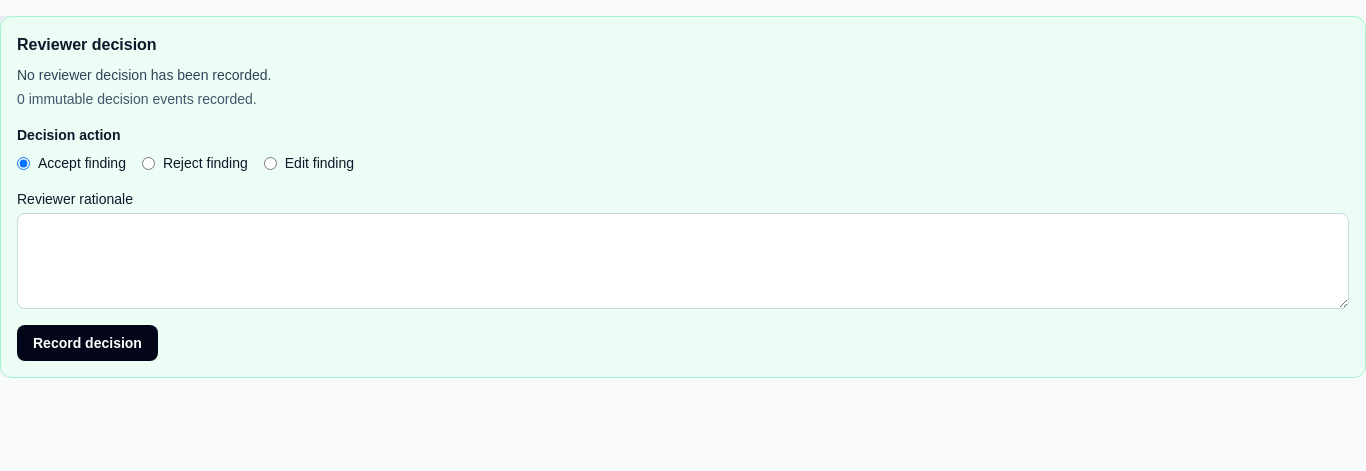
Test case: ReviewDecisions › records an accessible edited decision and announces reconstructed current state
Step 1. Click the radio button labelled "Edit finding" → x=270, y=163, box [264,156,277,170]
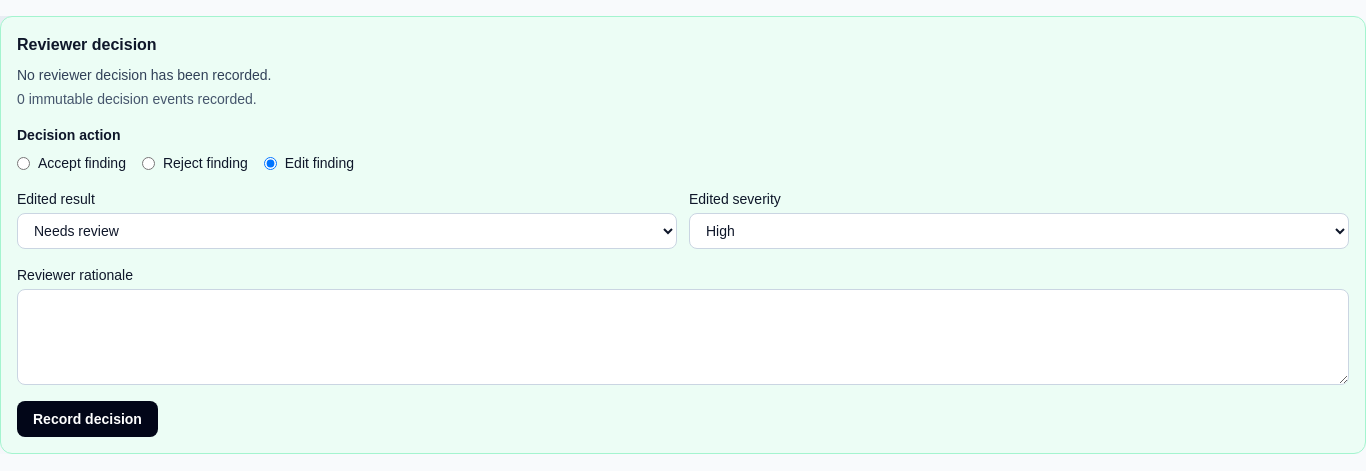
Step 2. Select "Non compliant" in the dropdown labelled "Edited result" → x=347, y=231, box [17,213,677,249]
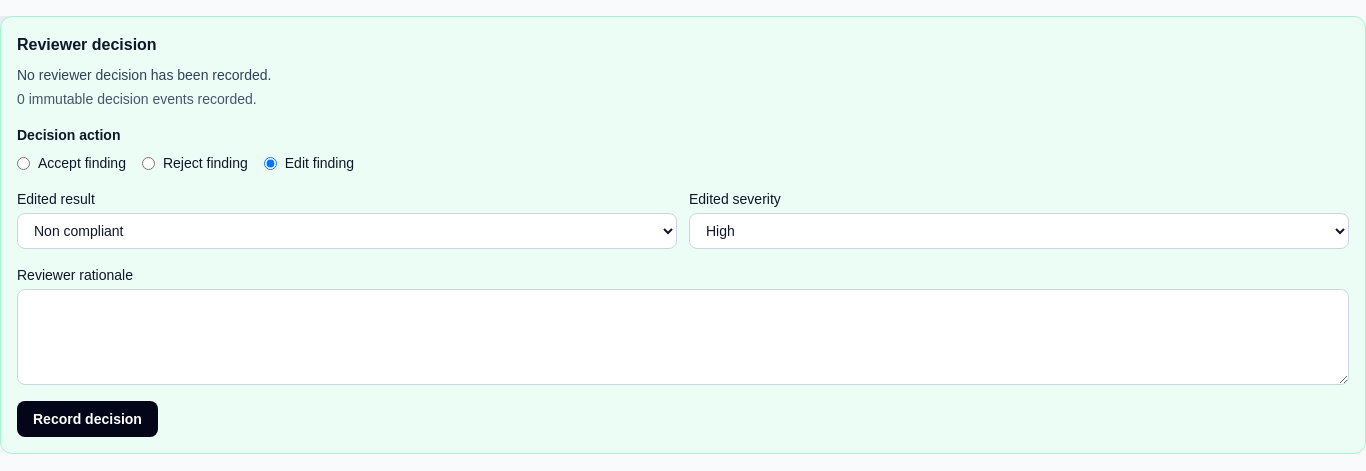
Step 3. Select "Critical" in the dropdown labelled "Edited severity" → x=1019, y=231, box [689,213,1349,249]
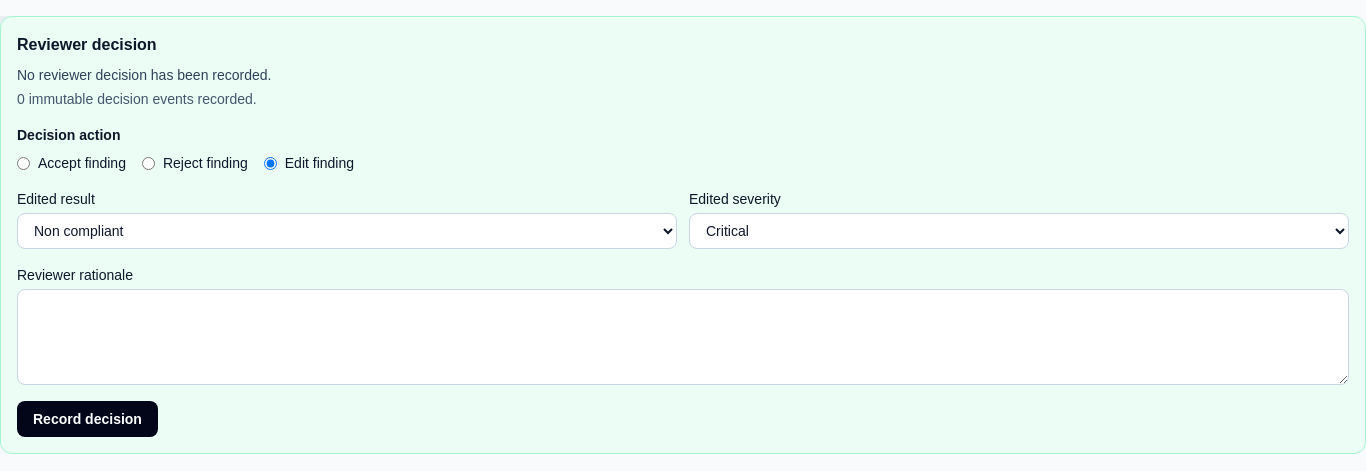
Step 4. Type "The exception requires a critical negotiated cap." into the text box labelled "Reviewer rationale" → x=683, y=337, box [17,289,1349,385]
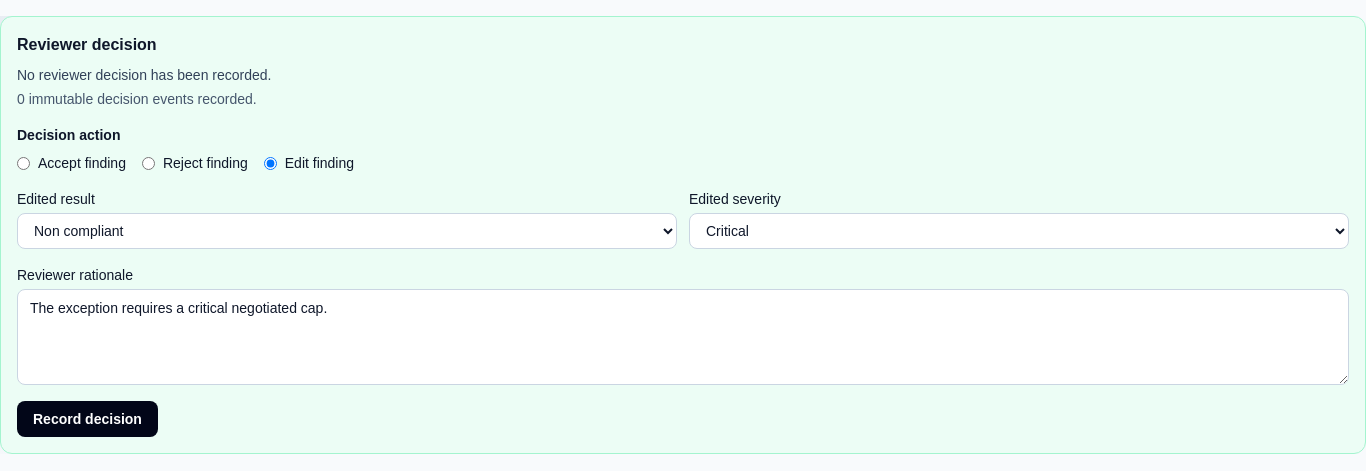
Step 5. Click the button "Record decision" → x=87, y=419, box [17,401,158,437]
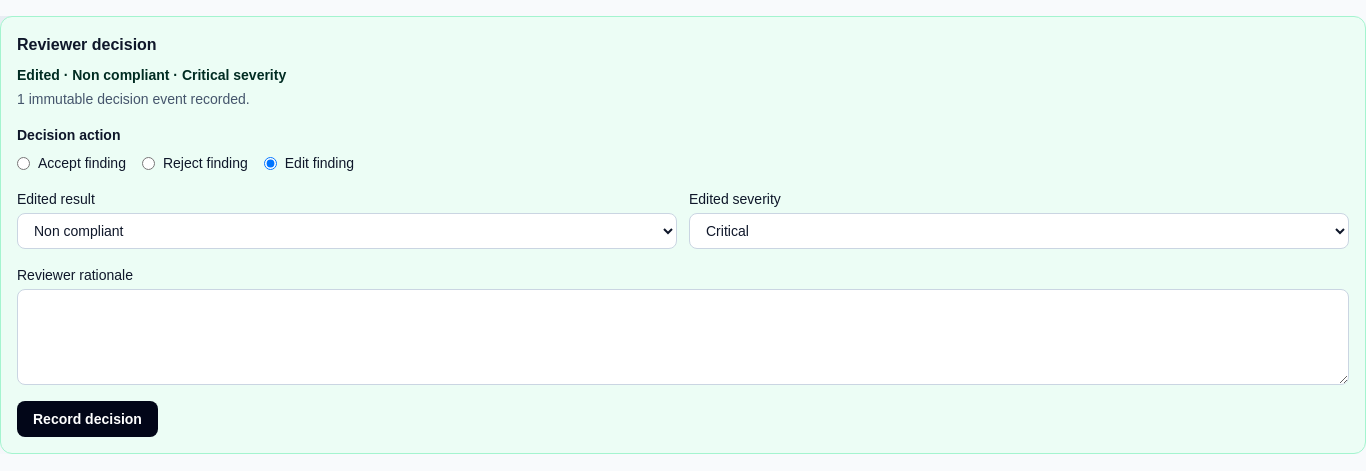
Now the message named "Current reviewer decision" reads "Edited · Non compliant · Critical severity", box [17,67,286,83]
Now the text "1 immutable decision event recorded." is shown, box [17,91,250,107]
